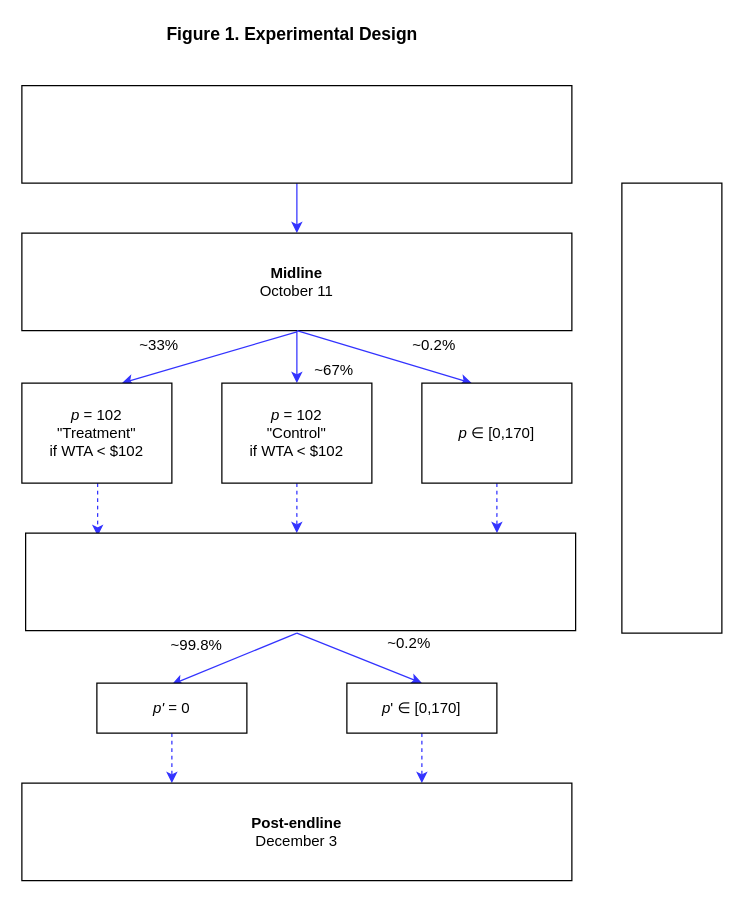
Some shapes in this 744 by 903 pixel diagram are drawn without their labels. Here are the shapes that lost their labels. From the top down, the centre of each, then its label:
the point at 296,133: Recruitment, pre-screen, and baseline September 24 - October 3
the point at 671,407: Daily text messages September 27 - November 8
the point at 300,581: Endline November 8
